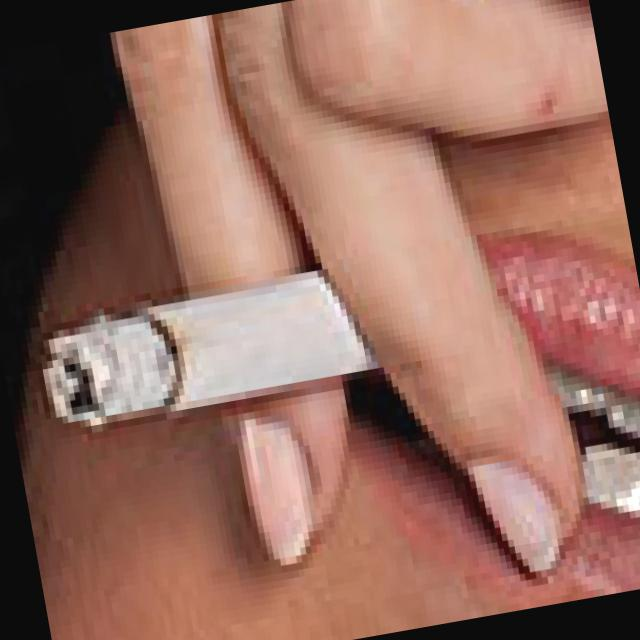smoke: (34, 260, 352, 431)
